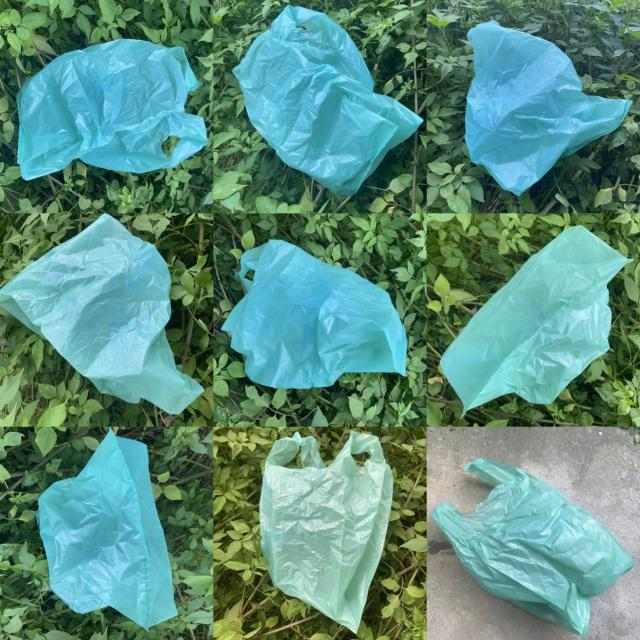Single-layer Plastic: (0, 214, 202, 414), (440, 225, 630, 414), (234, 6, 422, 196), (432, 459, 632, 634), (465, 21, 631, 195), (36, 430, 178, 628), (222, 240, 408, 389), (260, 431, 392, 632), (18, 39, 206, 180)
